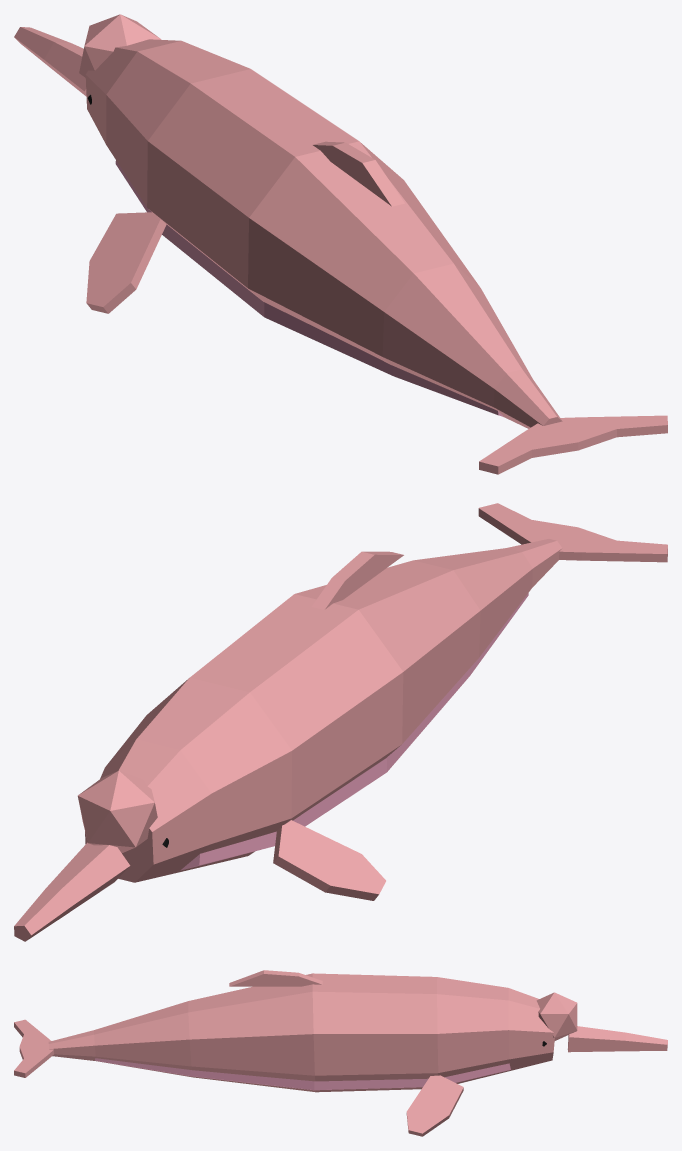
The model's file is boto_vermelho.glb.
3 views of the same model, one above another, from view 1: azimuth 30°, elevation 25°; view 2: azimuth 150°, elevation 25°; view 3: azimuth 270°, elevation 25° (orthographic). The views are drawn at different scales.
Parts seen in each view (by area): view 1: corpo; view 2: corpo; view 3: corpo.
Boxes of the visible parts, bbox=[...] form: corpo: bbox=[14, 14, 667, 474]; corpo: bbox=[14, 503, 667, 941]; corpo: bbox=[14, 970, 667, 1136].
Bounding box in the file's own units: 0.3027 × 0.2101 × 1.
